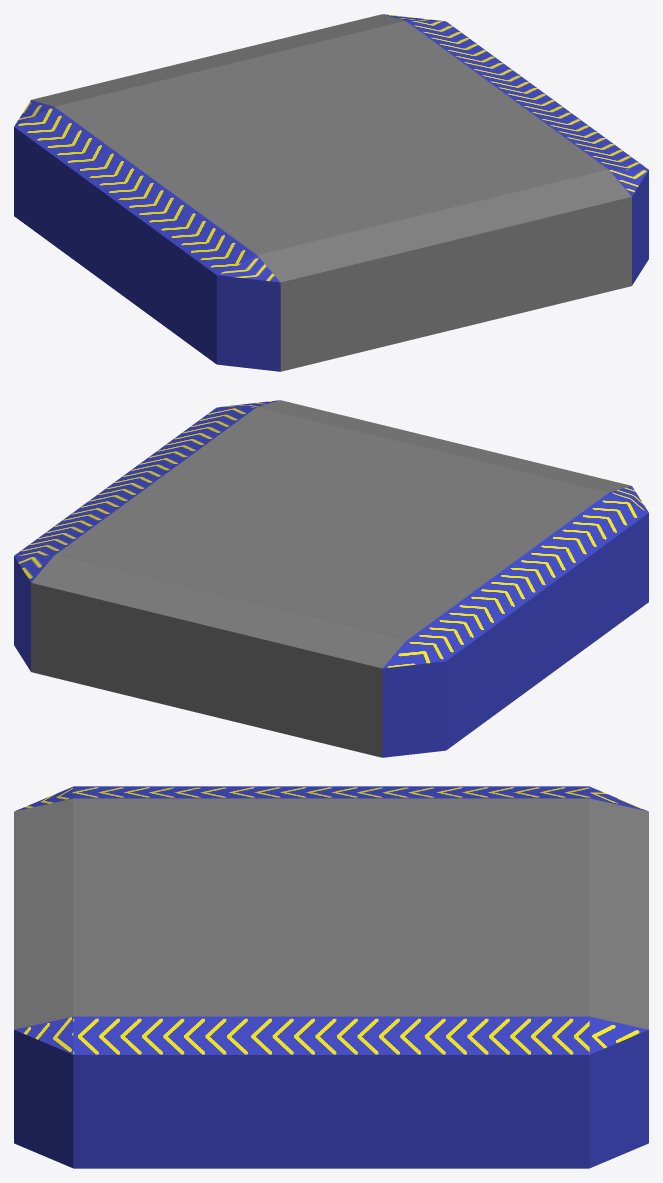
Rendered from FloorObj.gltf.
3 views of the same model, one above another, from view 1: azimuth 30°, elevation 25°; view 2: azimuth 150°, elevation 25°; view 3: azimuth 270°, elevation 25° (orthographic). The views are drawn at different scales.
Visible parts, largest first — view 1: Cube; view 2: Cube; view 3: Cube.
Boxes of the visible parts, x1,y1,x2,y2 form: Cube: (14, 14, 648, 371); Cube: (14, 400, 648, 757); Cube: (14, 786, 648, 1168).
Size of the model in its own units: 3.5 by 0.8507 by 3.5.
Materials: 1 (1 with a texture image).
